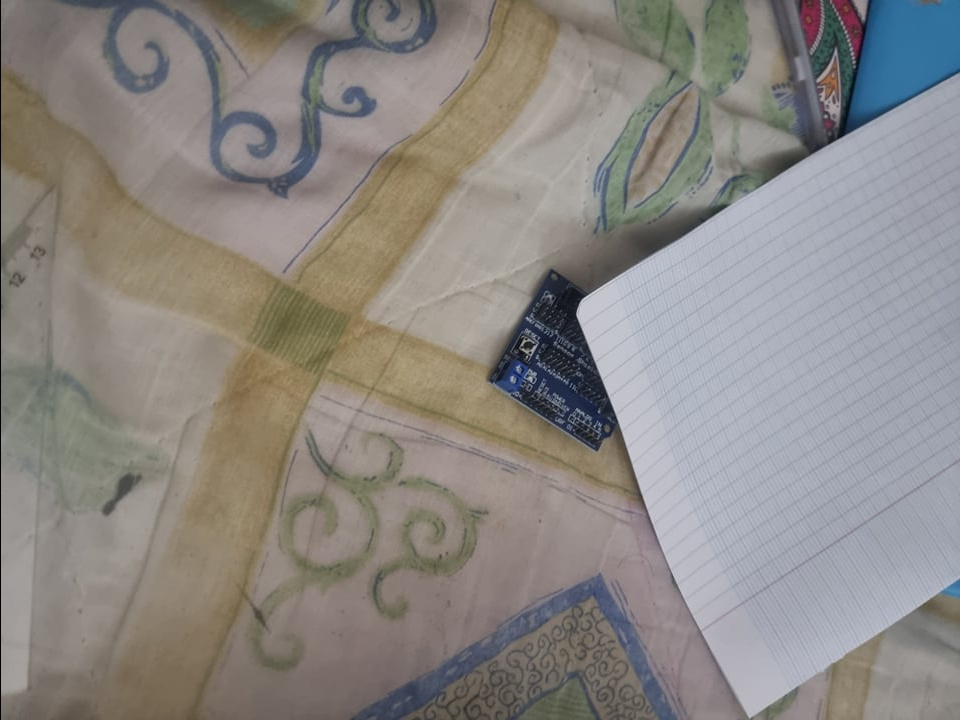5V EXPANSION: (484, 268, 618, 454)
